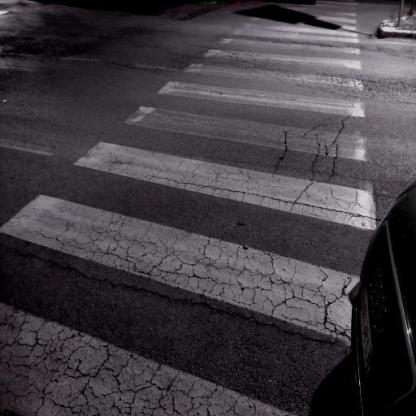crosswalk: (52, 104, 388, 235)
